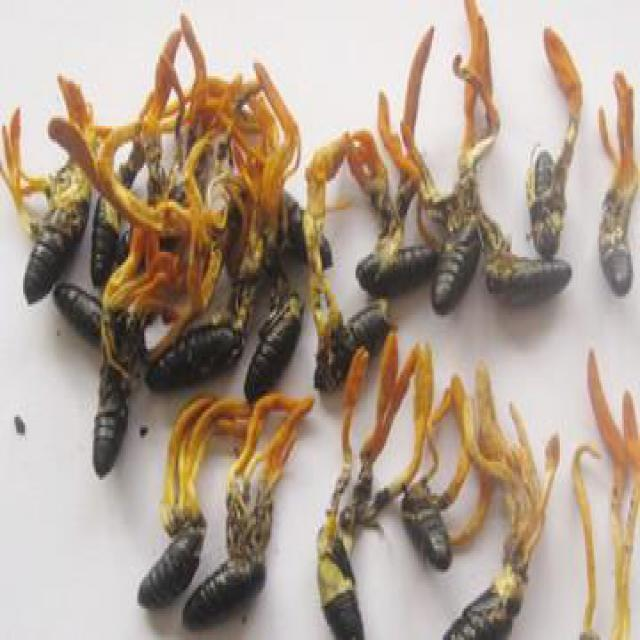Cordyceps militaris: (133, 15, 247, 380), (452, 3, 573, 295), (314, 335, 414, 640), (184, 397, 312, 631), (448, 369, 558, 640), (139, 396, 267, 618), (302, 134, 390, 391), (3, 78, 93, 302), (424, 55, 502, 308), (246, 69, 304, 391), (341, 93, 432, 290), (401, 389, 493, 568), (523, 23, 584, 261), (96, 185, 135, 474), (595, 71, 639, 297)
